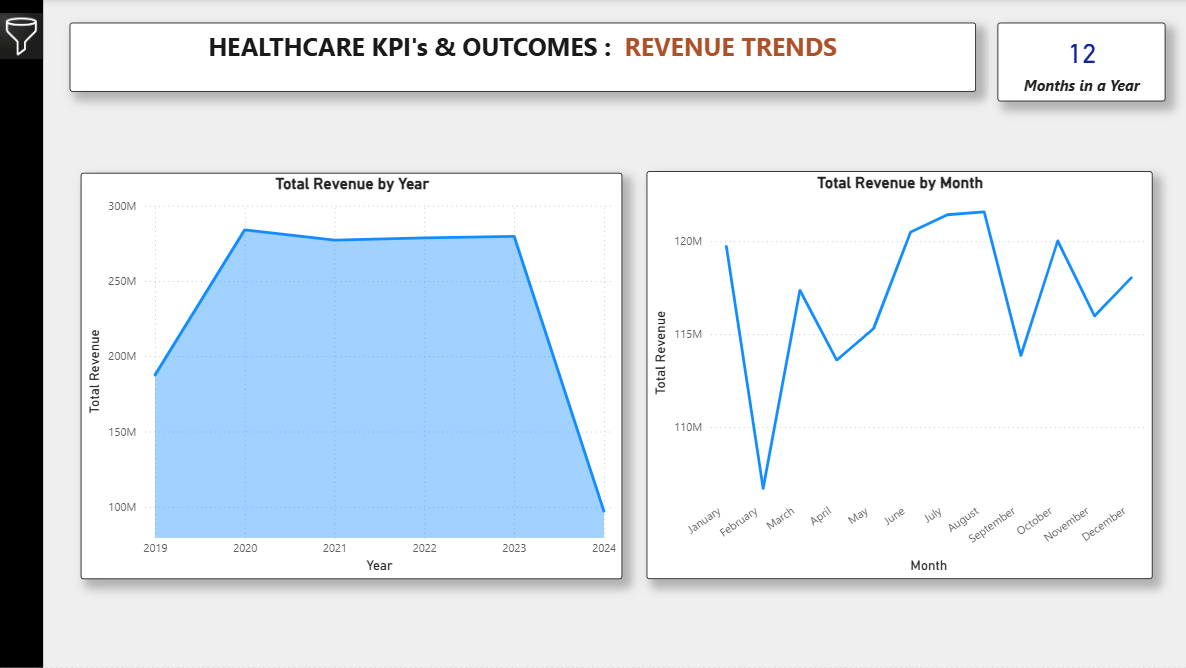

What the dashboard file says about the page in this screenshot:
{"tool":"powerbi","page":{"name":"Revenue Trends","canvas":[1280,720],"ordinal":2},"visuals":[{"type":"lineChart","title":"Total Revenue by Month ","fields":{"Y":["Sum(healthcare_dataset.Billing Amount)"],"Category":["DateTable.Month Name"]},"box":[697.9,185.5,544.7,439.1],"z":0},{"type":"areaChart","fields":{"Category":["DateTable.Year"],"Y":["Sum(healthcare_dataset.Billing Amount)"]},"box":[89.2,188,583.2,437.7],"z":1000},{"type":"textbox","box":[76.8,26.1,975.6,74.1],"z":2000},{"type":"shape","box":[0,0,48,720],"z":3000},{"type":"image","box":[0,0,48,80],"z":4000},{"type":"actionButton","box":[0,0,47.1,80.7],"z":5000},{"type":"actionButton","box":[34.3,0,12.3,39.8],"z":6000},{"type":"card","fields":{"Values":["Count(DateTable.Month)"]},"box":[1075.8,26.1,181.1,85.1],"z":8000}]}

Visuals, with their boxes in screenshot pixels (x1, y1, x2, y2), scaled from the page's 1280x720 canvas onto the 1186x668 screenshot:
"Total Revenue by Month " lineChart: [647,172,1151,579]
areaChart - DateTable.Year x Sum(healthcare_dataset.Billing Amount): [83,174,623,581]
textbox: [71,24,975,93]
shape: [0,0,44,667]
image: [0,0,44,74]
actionButton: [0,0,44,75]
actionButton: [32,0,43,37]
card - Count(DateTable.Month): [997,24,1165,103]
